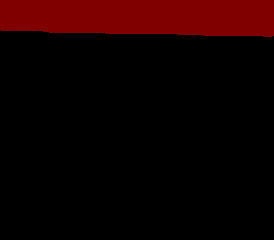Sky: (1, 1, 273, 37)
